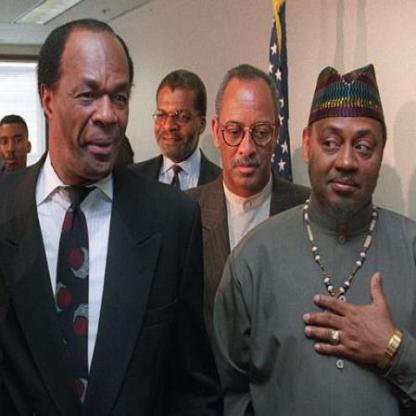face: (55, 23, 137, 180), (310, 77, 385, 215), (220, 72, 277, 191), (155, 72, 203, 160), (1, 115, 29, 173)
